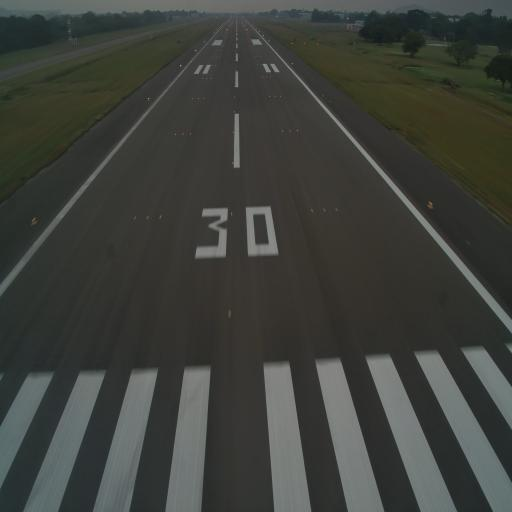on: (29, 214, 37, 229), (428, 198, 434, 212), (320, 204, 328, 214), (226, 308, 232, 320), (132, 213, 138, 223), (146, 212, 152, 222), (308, 205, 314, 215), (334, 206, 338, 216), (159, 214, 164, 221), (230, 210, 234, 217), (232, 159, 236, 166)
